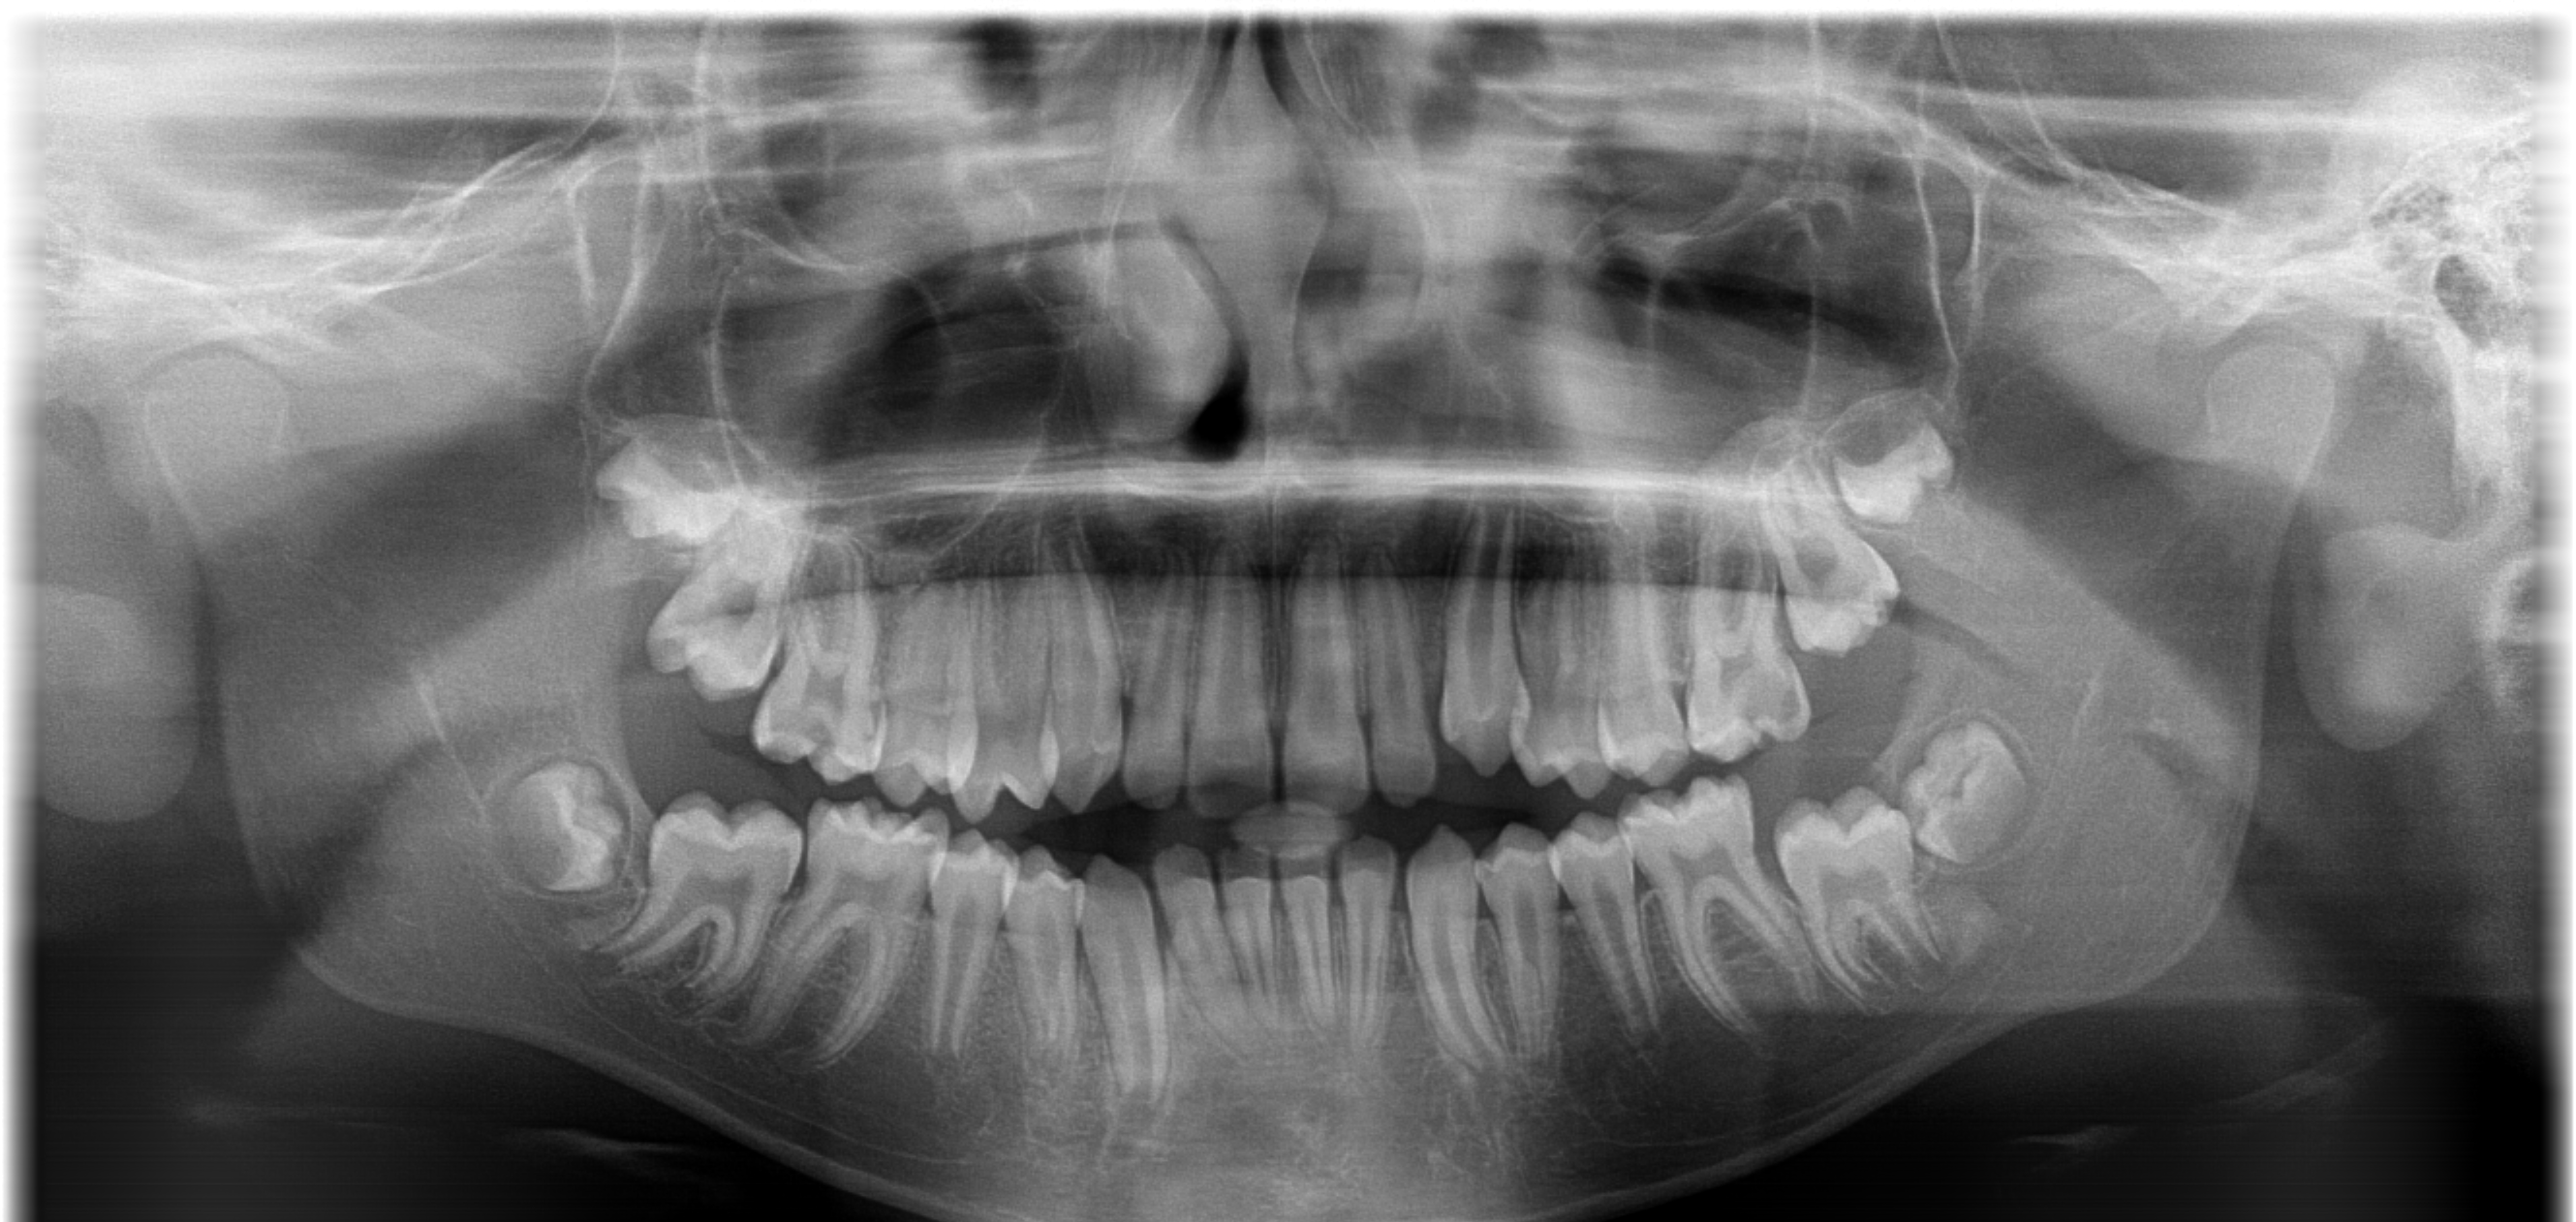cordal: (1786, 363, 2017, 572), (1855, 682, 2085, 890), (532, 374, 762, 583), (455, 731, 685, 938)
